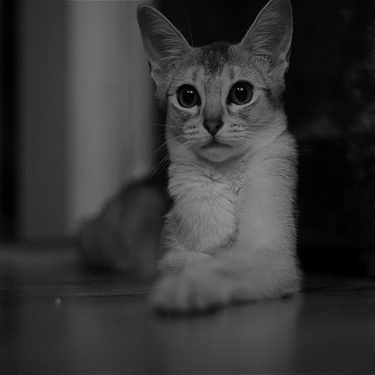cat: (136, 1, 302, 314)
